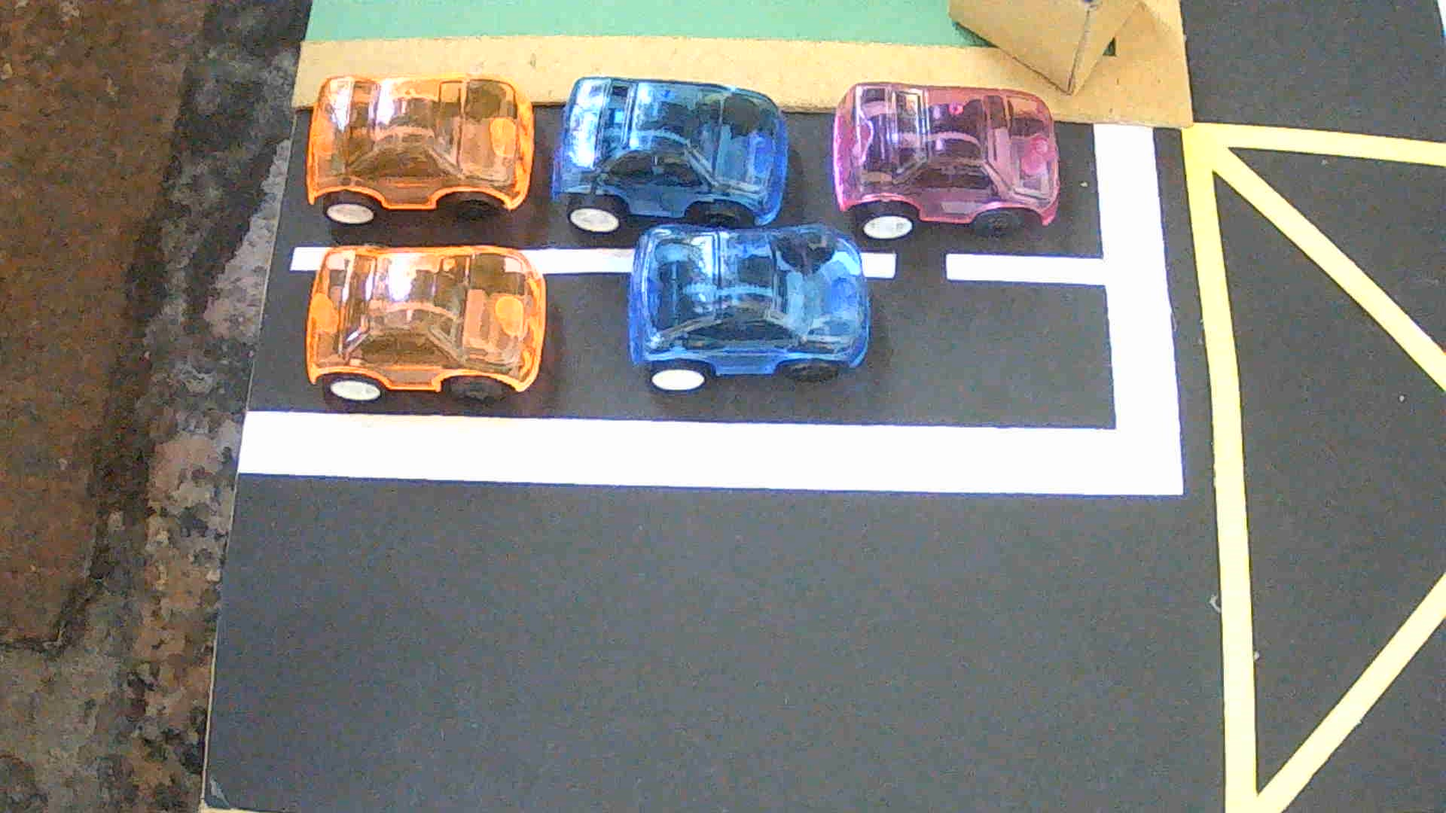Mobil biru: (629, 224, 871, 391), (552, 76, 787, 233)
Mobil orange: (305, 245, 545, 402), (307, 76, 534, 225)
Mobil ungu: (833, 82, 1059, 239)
